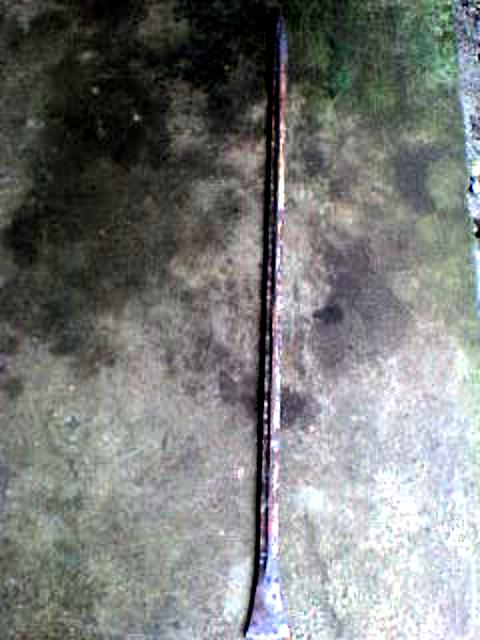crow bar: (248, 8, 296, 640)
